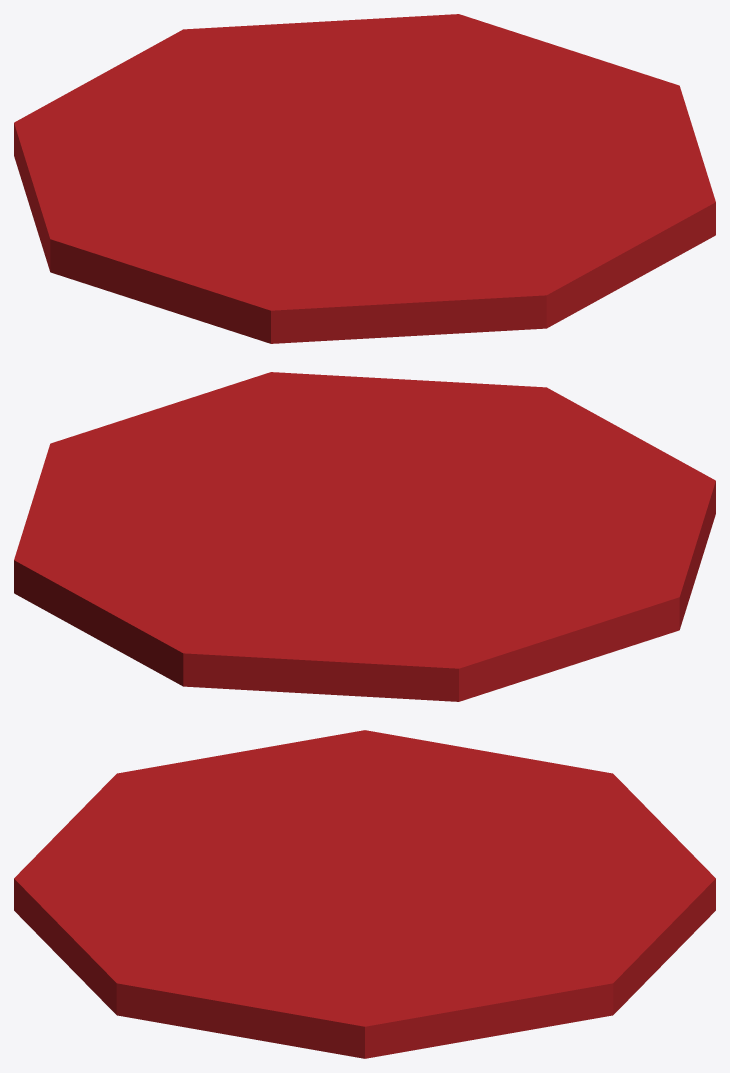
File: Pepperoni.fbx
3 renders of one model, top to bottom at view 1: azimuth 30°, elevation 25°; view 2: azimuth 150°, elevation 25°; view 3: azimuth 270°, elevation 25°, orthographic. The views are drawn at different scales.
Visible parts, largest first — view 1: Circle; view 2: Circle; view 3: Circle.
Part boxes in pixels (left/top/right/bottom): Circle: left=14, top=14, right=715, bottom=343; Circle: left=14, top=372, right=715, bottom=701; Circle: left=14, top=730, right=715, bottom=1058.
Size of the model in its own units: 20 by 1.01 by 20.
